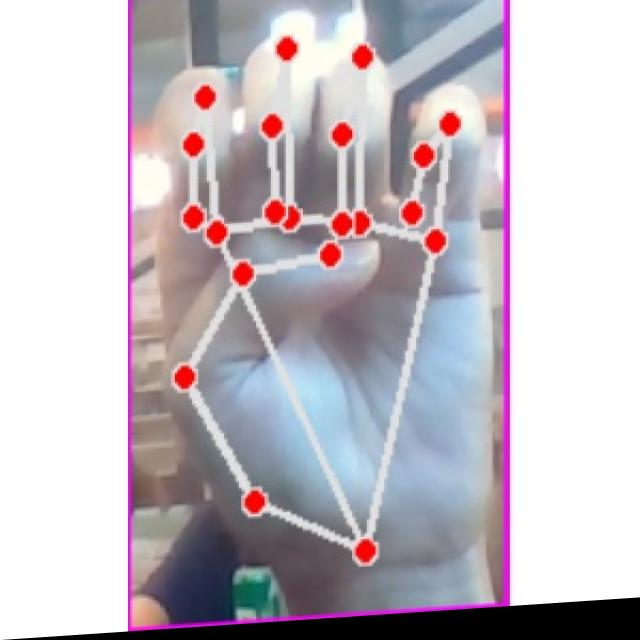E: (141, 21, 496, 592)
